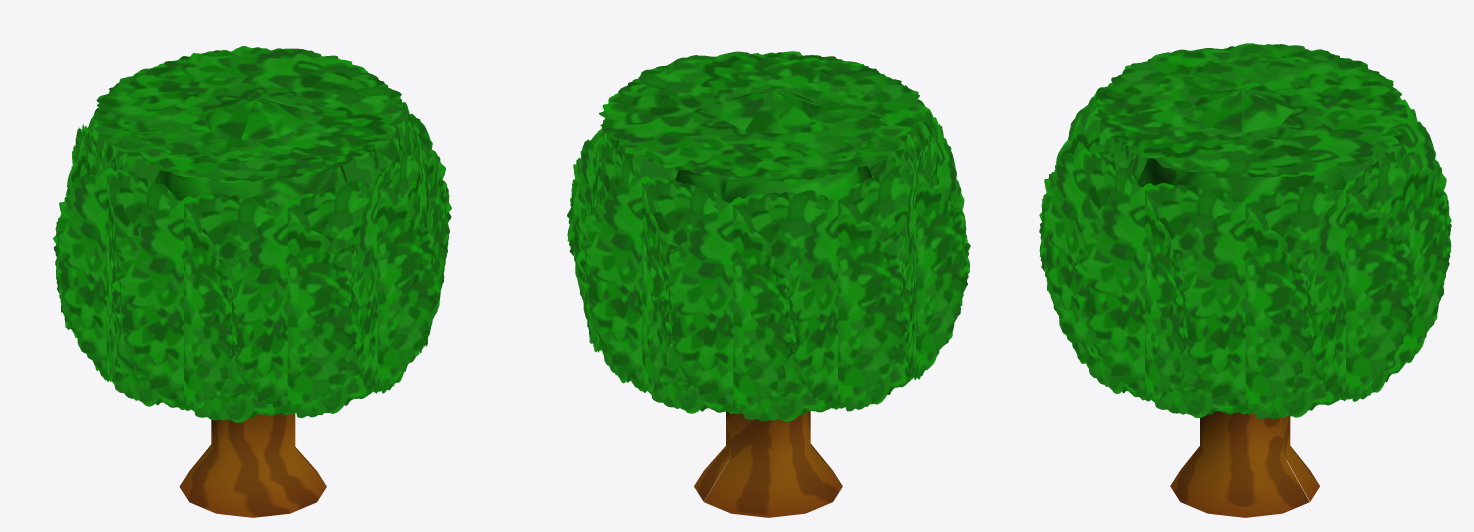
The model's file is 可憐樹.FBX.
3 renders of one model, left to right at view 1: azimuth 30°, elevation 25°; view 2: azimuth 150°, elevation 25°; view 3: azimuth 270°, elevation 25°, orthographic.
Visible parts, largest first — view 1: 樹葉; view 2: 樹葉; view 3: 樹葉.
Part boxes in pixels (x1,y1,x2,y2): 樹葉: (53, 46, 451, 517); 樹葉: (567, 51, 970, 517); 樹葉: (1039, 43, 1451, 517).
Bounding box in the file's own units: 1093 × 1141 × 1120.
